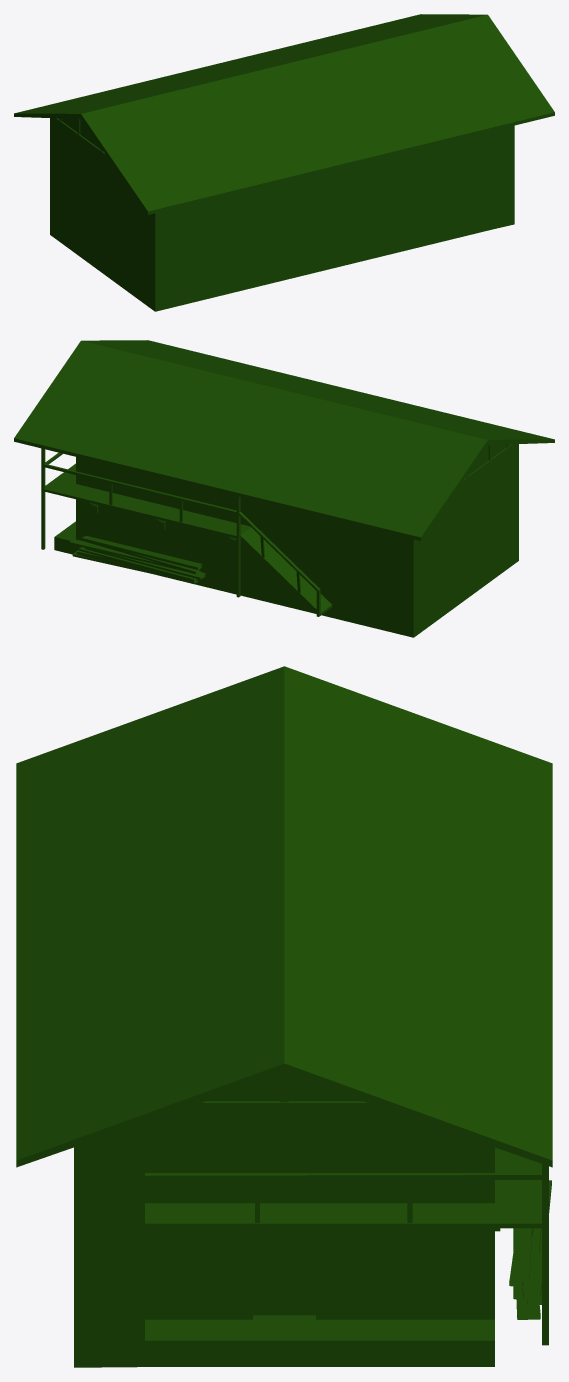
File: BGHouse_01.fbx
The picture shows the model from 3 angles, top to bottom: view 1: azimuth 30°, elevation 25°; view 2: azimuth 150°, elevation 25°; view 3: azimuth 270°, elevation 25°; orthographic projection. The views are drawn at different scales.
Visible parts, largest first — view 1: BGHouse_01; view 2: BGHouse_01; view 3: BGHouse_01.
Boxes of the visible parts, x1=… form: BGHouse_01: x1=14, y1=14, x2=554, y2=311; BGHouse_01: x1=14, y1=340, x2=554, y2=637; BGHouse_01: x1=16, y1=666, x2=552, y2=1367.
Size of the model in its own units: 7.79 by 3.02 by 4.45.
